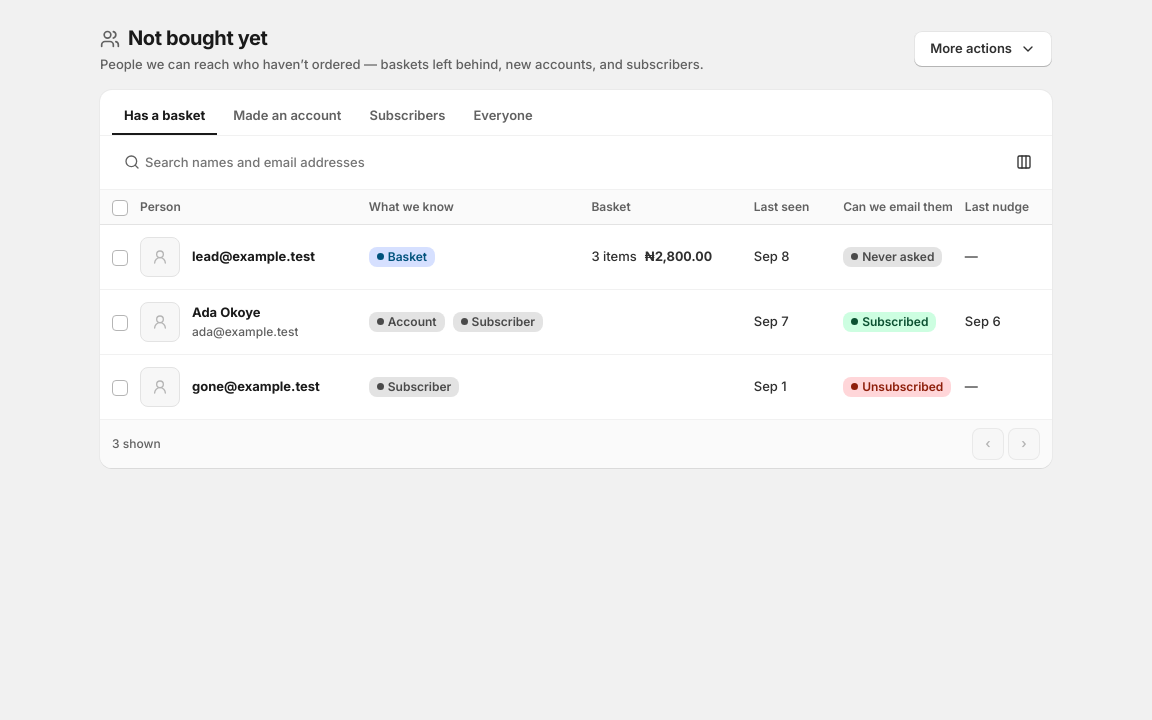
Test case: the person modal › opens a person and asks for their basket by encoded address
Expected: the text "ada@example.test" is shown, [192,323,298,340]
What coordinates should you click on to do the following:
click the text "ada@example.test"
I would click on:
 (576, 322)
Its box is [100,289,1052,354].
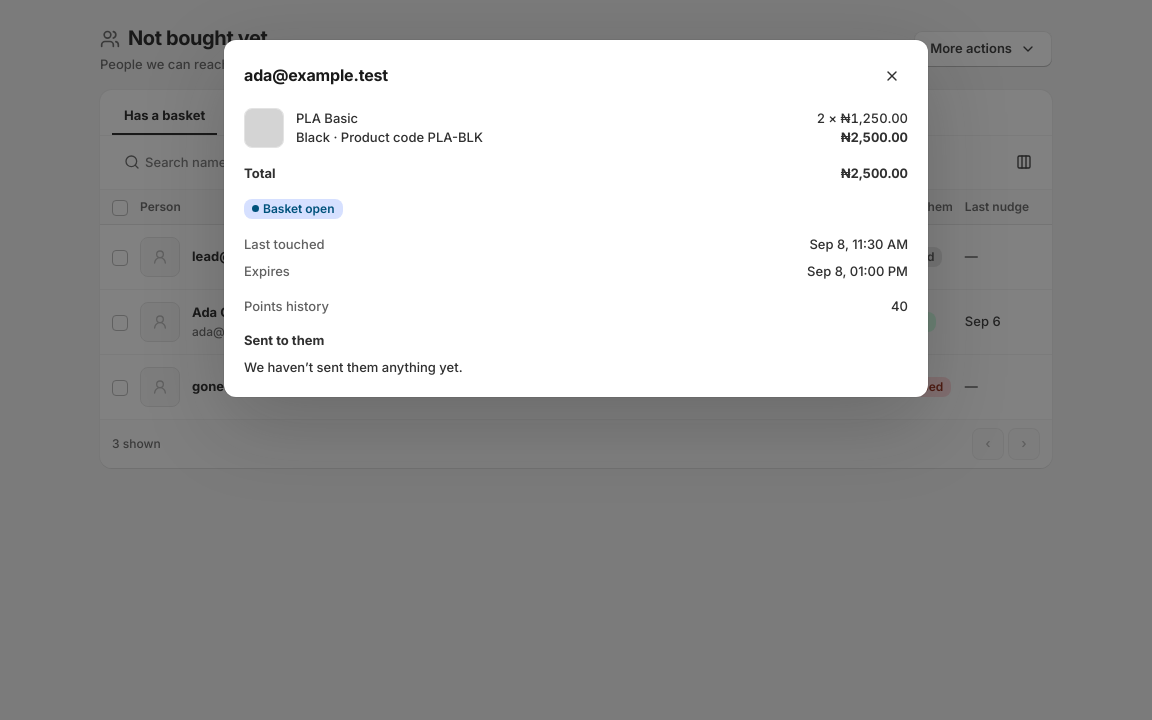
Expected: the text "PLA Basic" is shown, [296,110,358,126]
